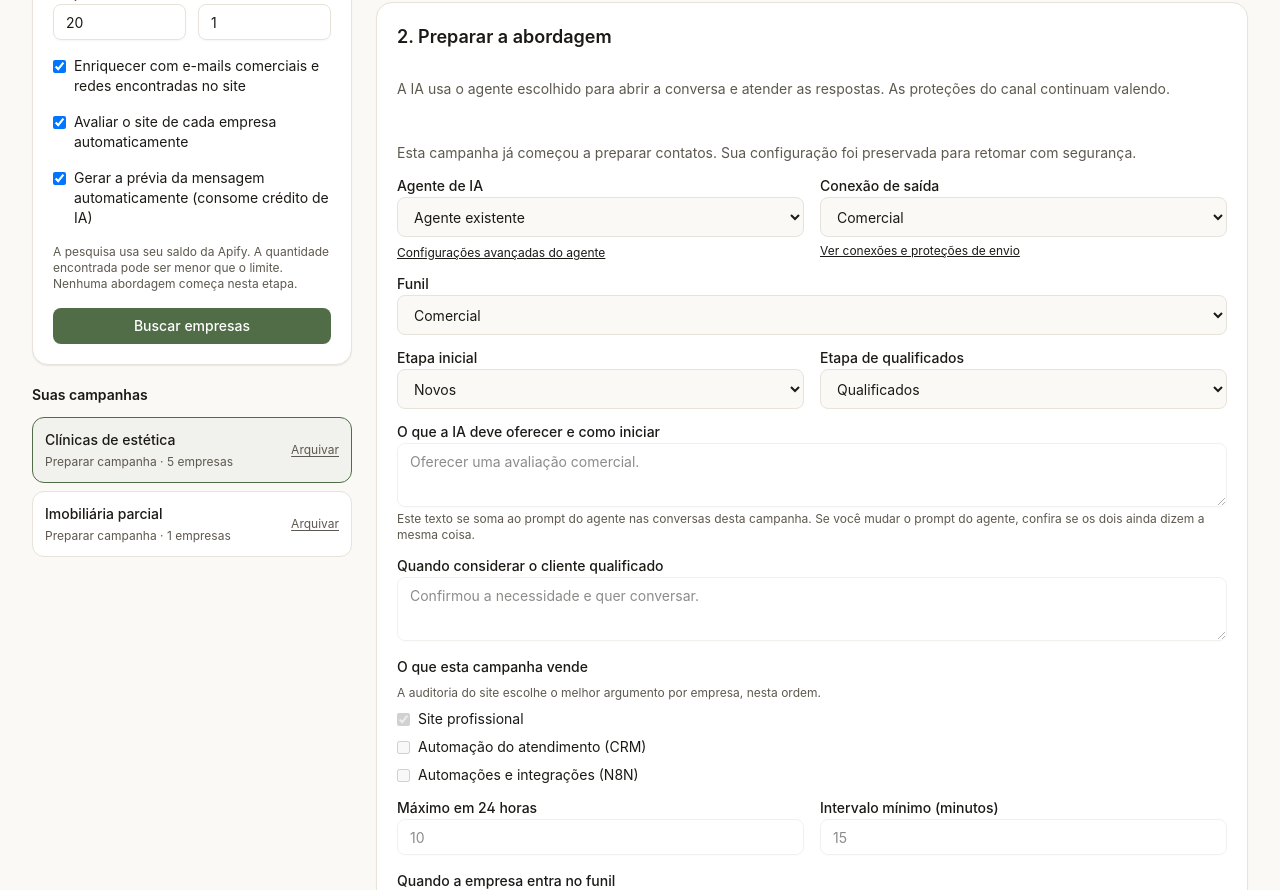
Test: baixar a lista da campanha (issue #4360) › enquanto conta, os dois itens esperam desabilitados
(page scrolled)
Click the button "Clínicas de estética Preparar campanha · 5 empresas".
click(152, 450)  # box [33,418,271,482]
(page scrolled)
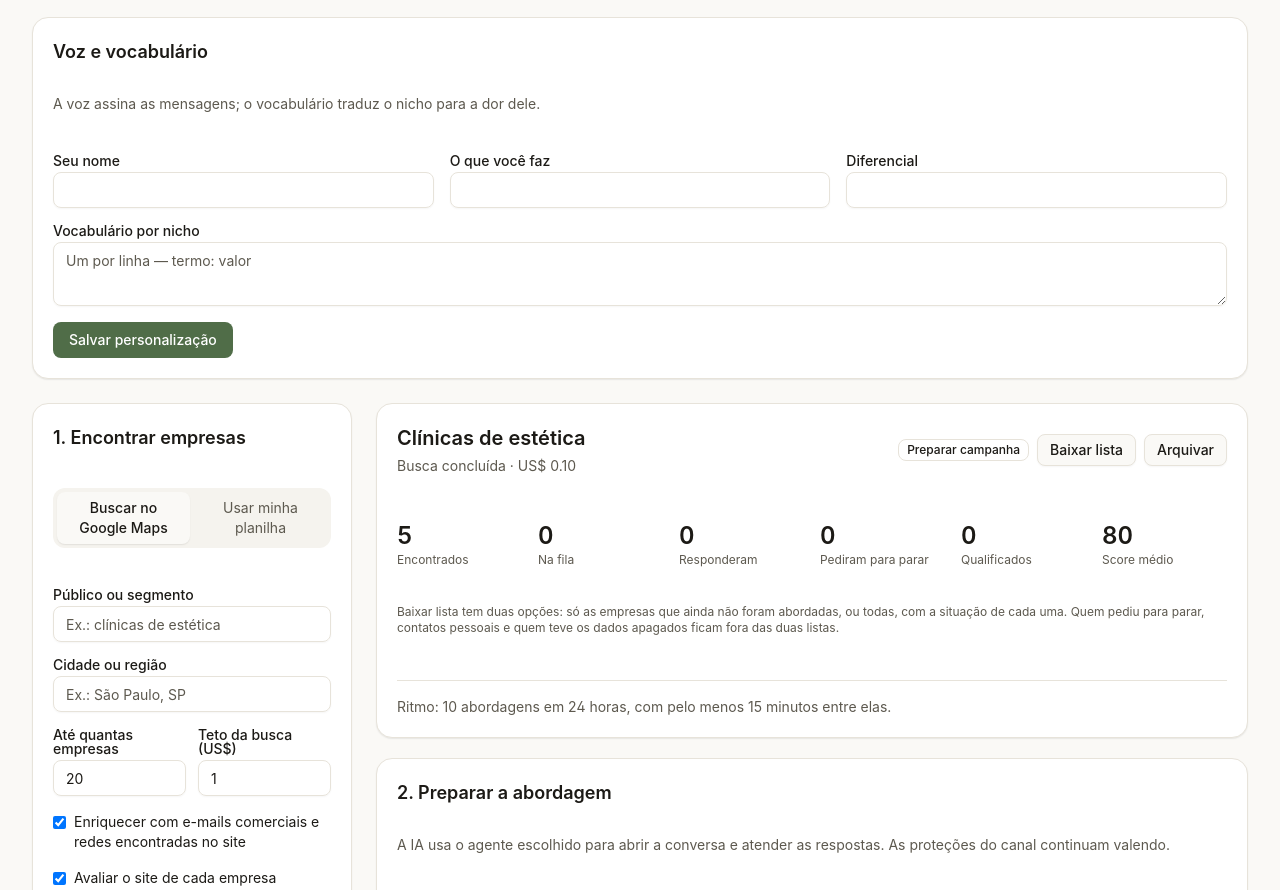
Click the button with test id "baixar-lista".
click(1086, 450)  # box [1037,434,1136,466]
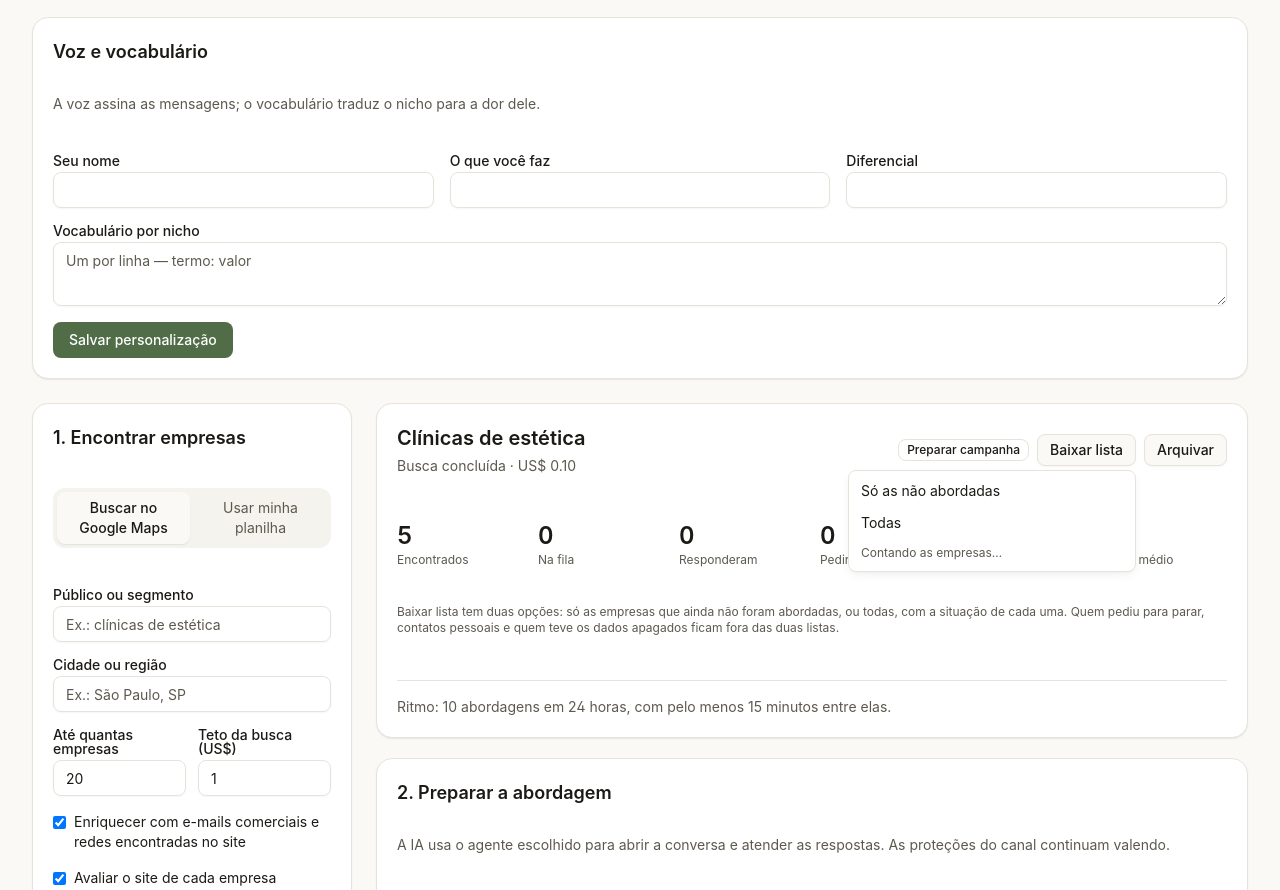
Check: the text "Contando as empresas…" is shown, box [861,545,1002,560]
